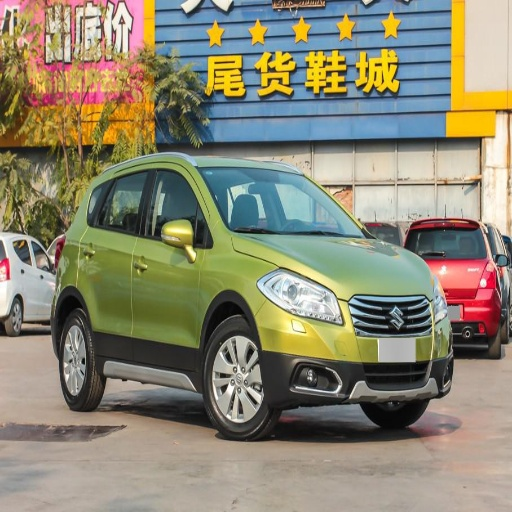front_bumper: (258, 292, 453, 406)
front_right_door: (133, 164, 206, 371)
front_right_light: (260, 268, 345, 325)
